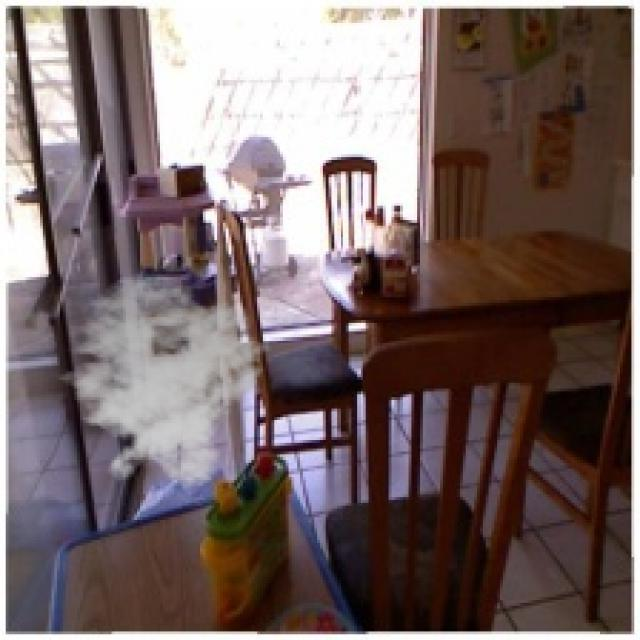smoke: (46, 272, 271, 488)
